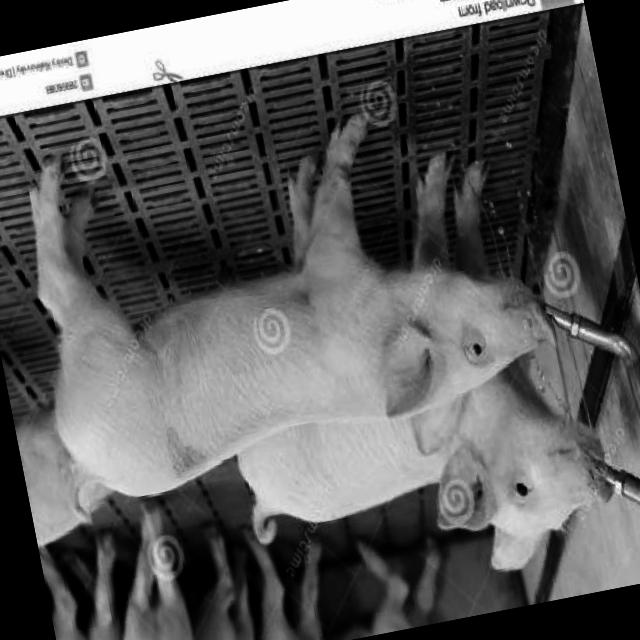pig: (31, 114, 553, 496), (238, 366, 611, 568), (15, 411, 112, 548), (413, 156, 451, 269), (457, 164, 486, 276)
